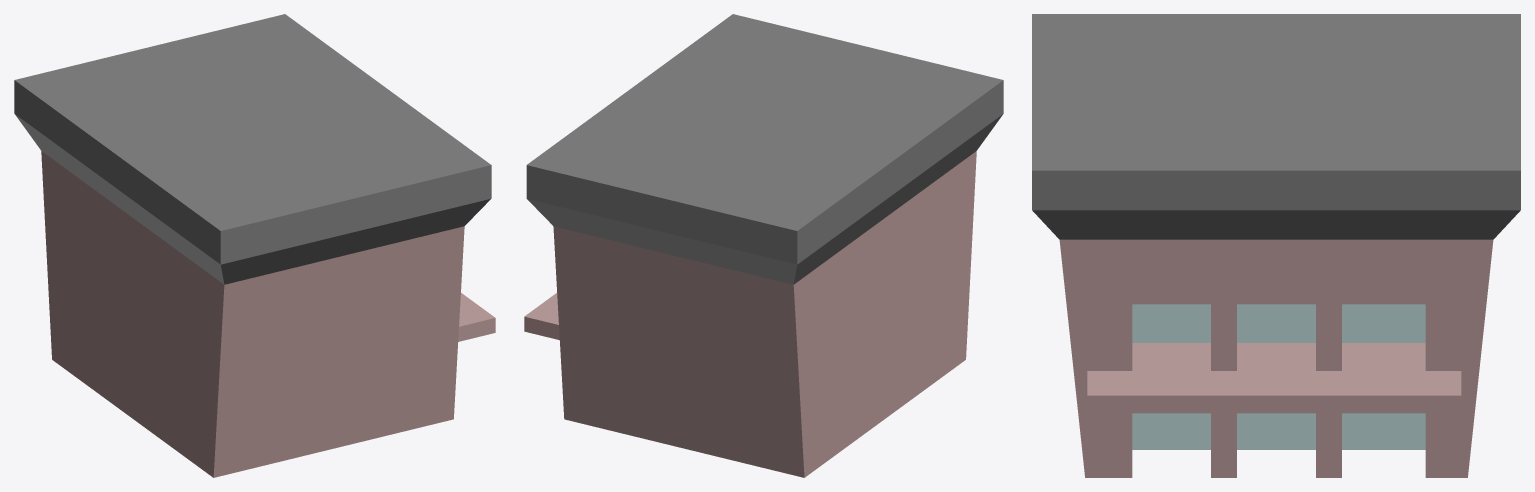
File: Lvl8.fbx
3 views of the same model, side by side, from view 1: azimuth 30°, elevation 25°; view 2: azimuth 150°, elevation 25°; view 3: azimuth 270°, elevation 25° (orthographic). The views are drawn at different scales.
Parts seen in each view (by area): view 1: Lvl8; view 2: Lvl8; view 3: Lvl8.
Part boxes in pixels (left/top/right/bottom): Lvl8: left=14, top=14, right=495, bottom=477; Lvl8: left=524, top=14, right=1003, bottom=477; Lvl8: left=1032, top=14, right=1520, bottom=477.
Bounding box in the file's own units: 269 × 230 × 323.
